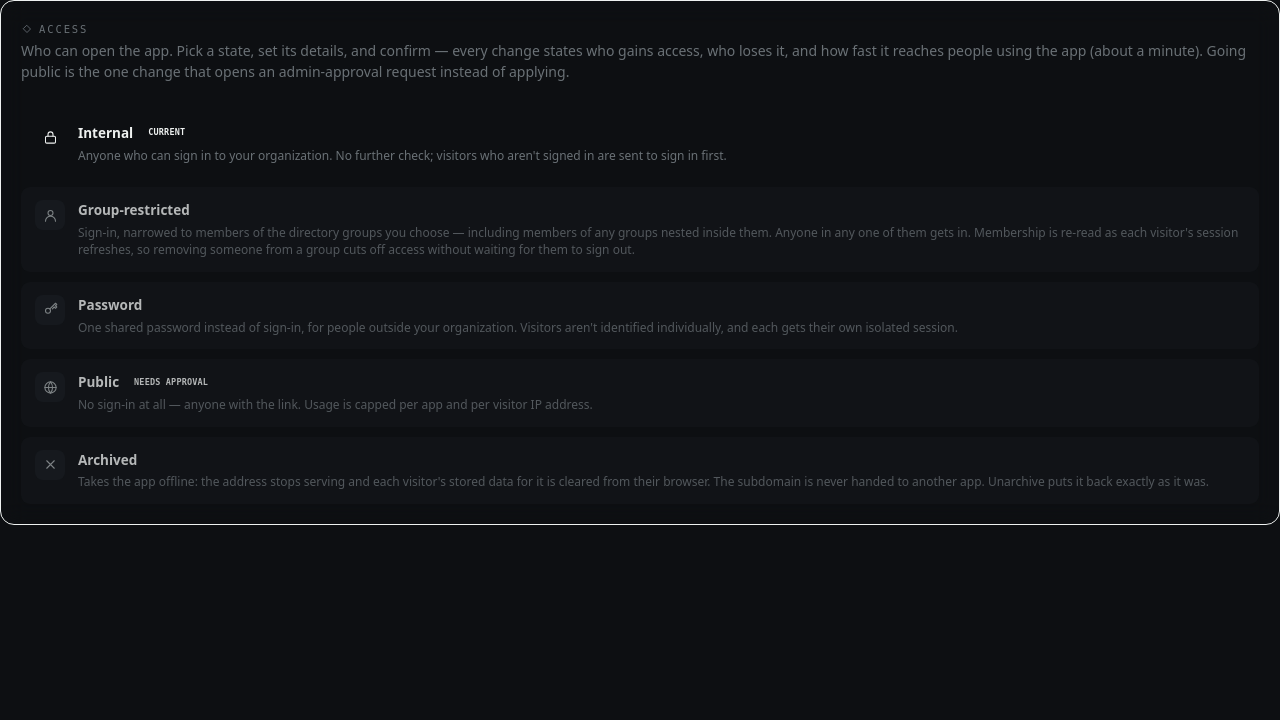
AccessTab selector › shows a pending-change bar at the top while a draft is dirty, and Discard clears it
Expected: the text "CHANGE PENDING" is not shown
Click the button "Public" at (99, 382), box [35, 372, 593, 413]
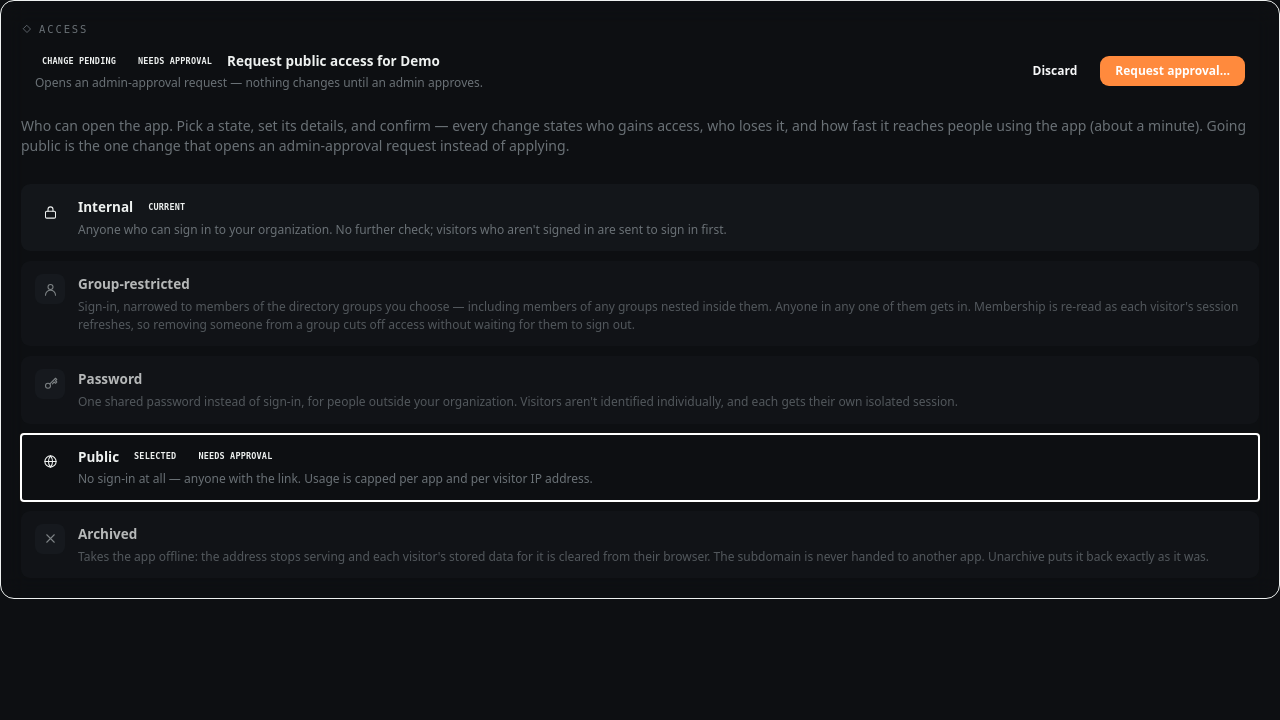
Result: the text "CHANGE PENDING" is shown at [42, 56, 116, 66]
Result: the text "Request public access for Demo" is shown at [227, 51, 440, 72]
Result: the text "Opens an admin-approval request — nothing changes until an admin approves." is shown at [35, 74, 483, 91]
Click the button "Group-restricted" at (640, 304), box [21, 262, 1259, 346]
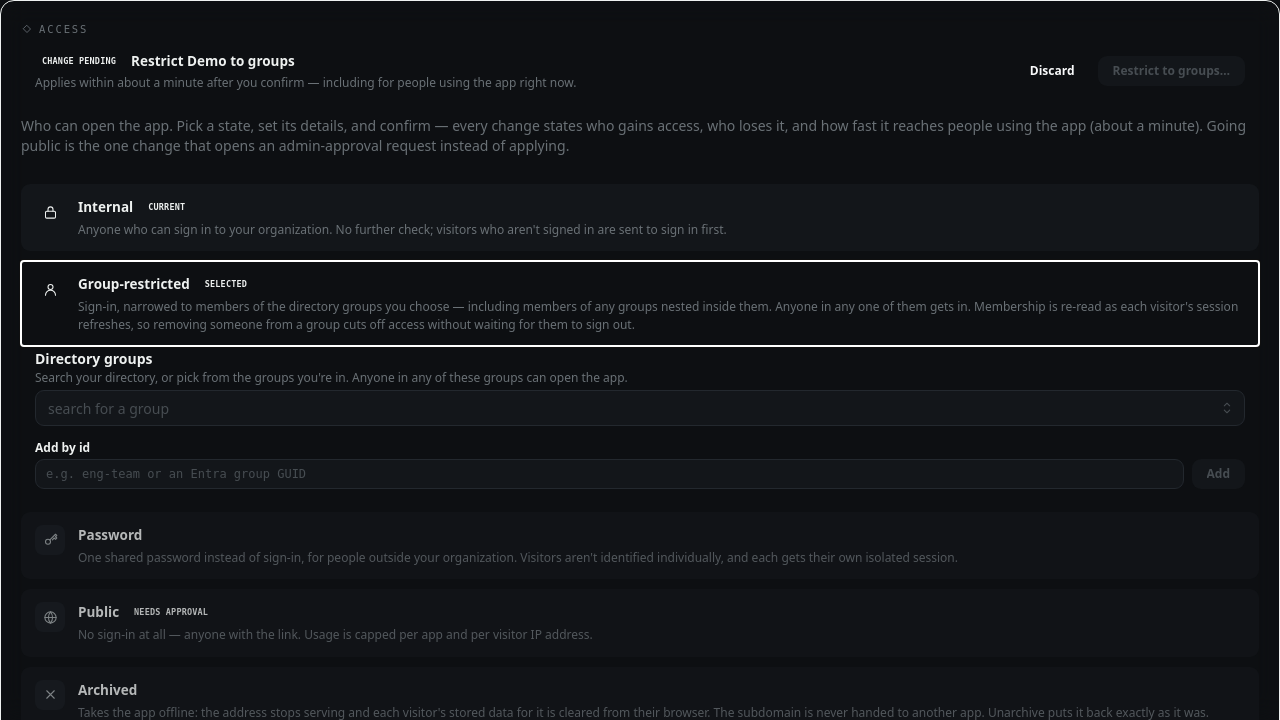
Result: the text "Restrict Demo to groups" is shown at [131, 51, 295, 72]
Result: the text "Applies within about a minute" is shown at [35, 74, 576, 91]
Click the button "Discard" at (1052, 71), box [1015, 56, 1090, 86]
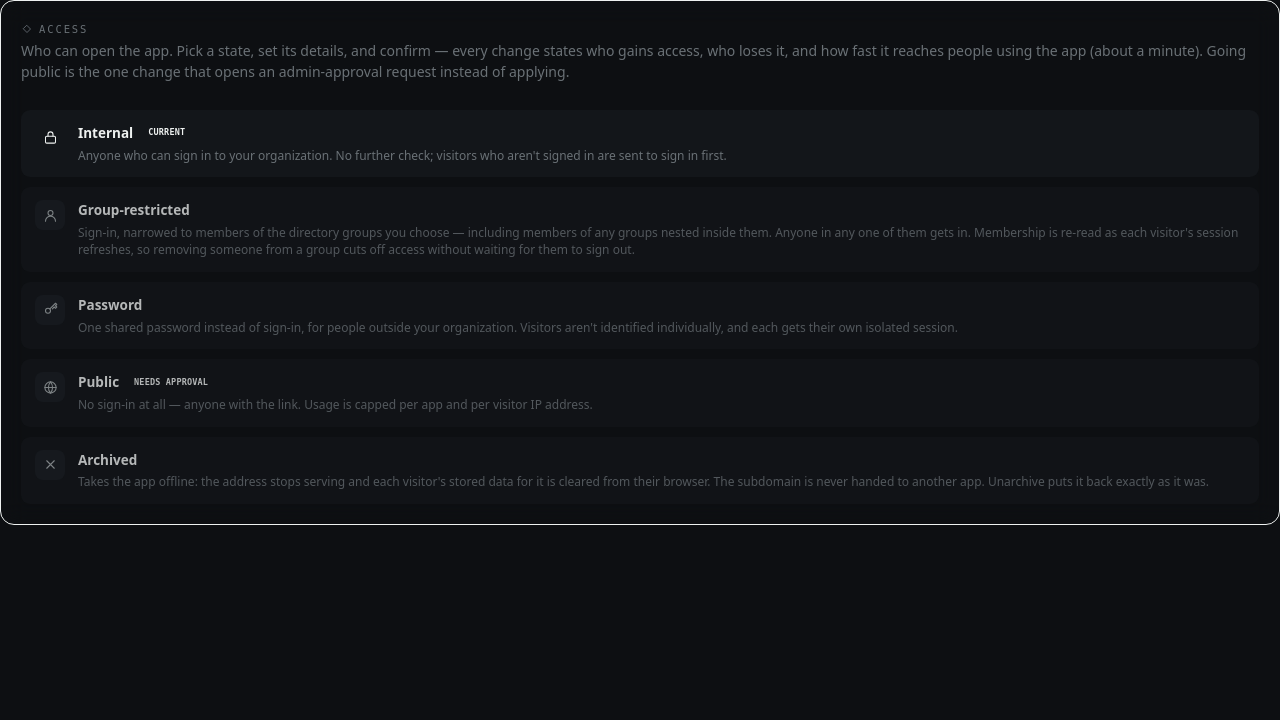
Result: the text "CHANGE PENDING" is gone
